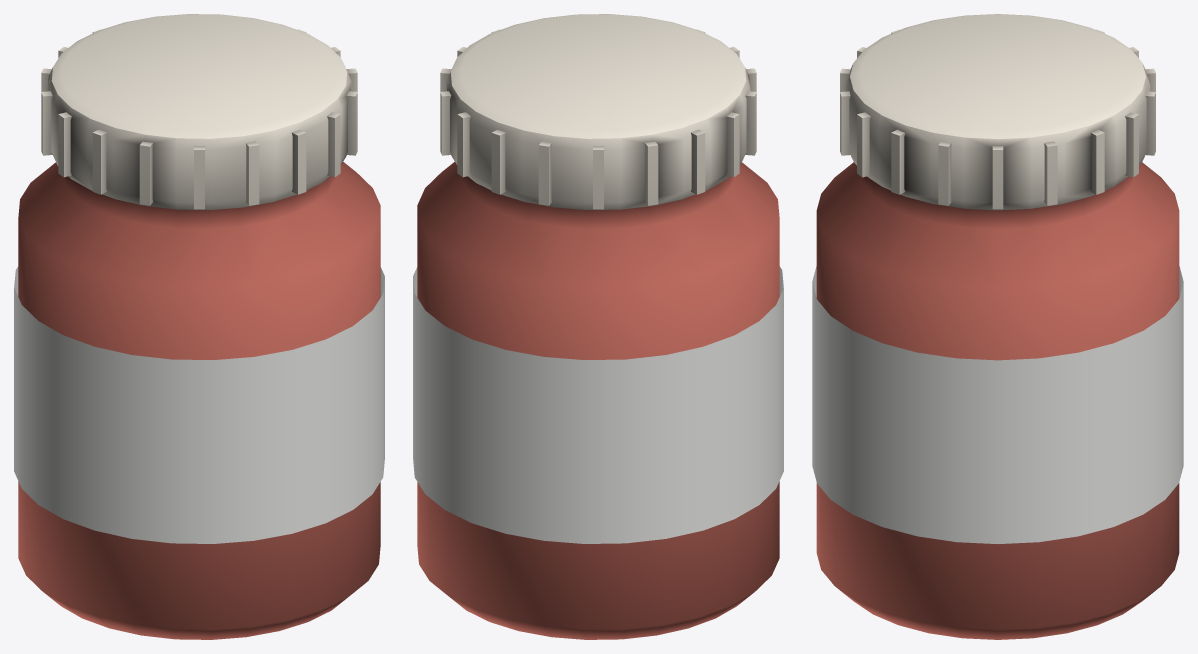
Rendered from nd_peanut_jar.glb.
The picture shows the model from 3 angles, left to right: view 1: azimuth 30°, elevation 25°; view 2: azimuth 150°, elevation 25°; view 3: azimuth 270°, elevation 25°; orthographic projection.
Visible parts, largest first — view 1: PART; view 2: PART; view 3: PART.
Part boxes in pixels (<box>): PART: <box>14,14,384,639</box>; PART: <box>413,14,783,639</box>; PART: <box>812,14,1183,639</box>.
Bounding box in the file's own units: 0.1024 × 0.152 × 0.1024.
